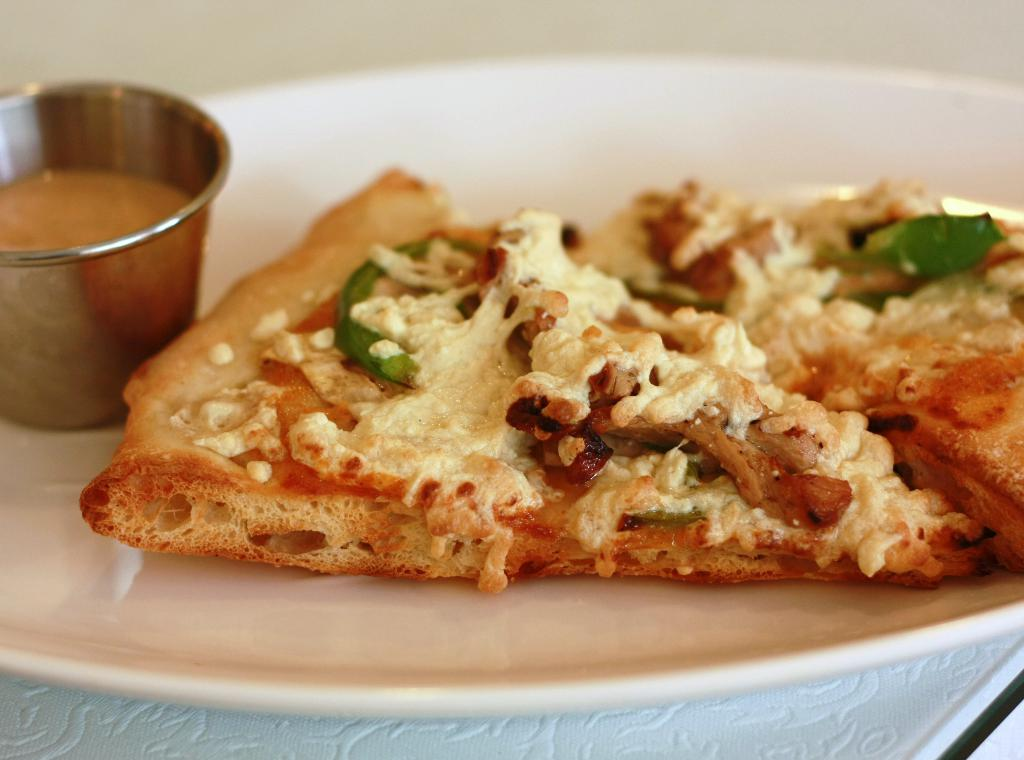pizza: (76, 177, 991, 557), (566, 201, 1023, 563)
